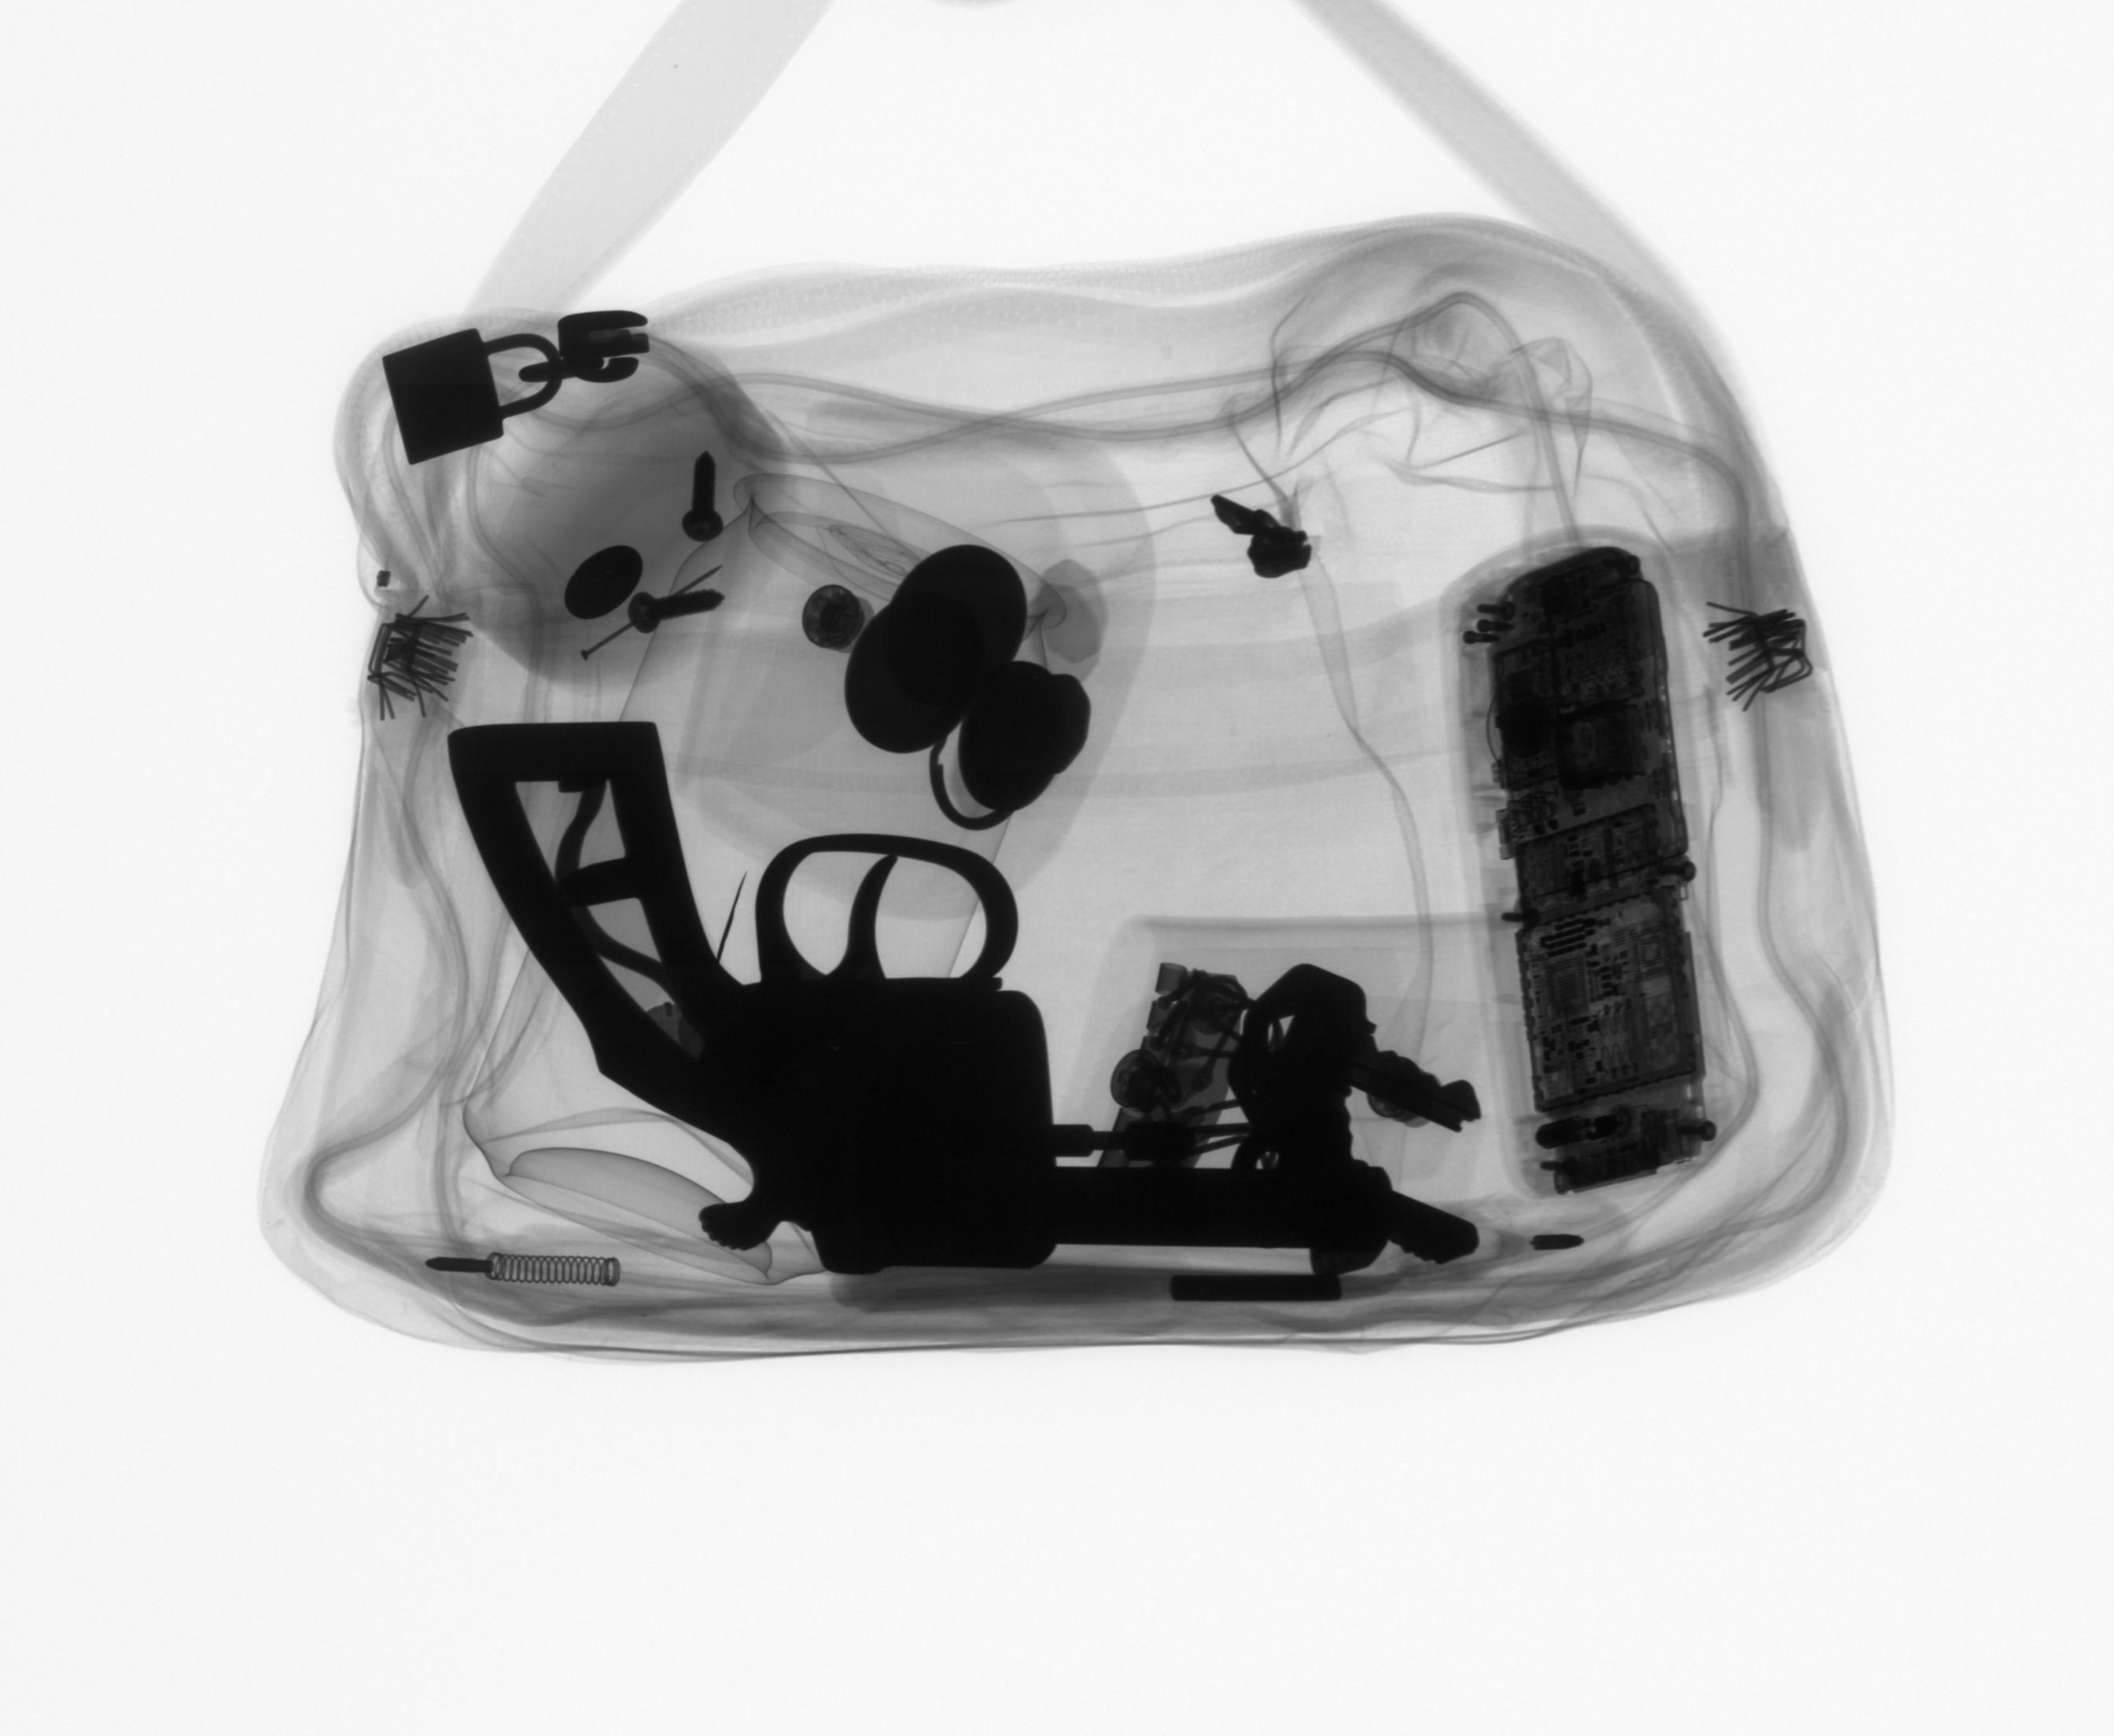Handgun: (441, 718, 1412, 1292)
